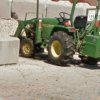Tractor: (18, 6, 100, 71)
